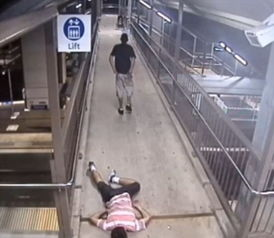fall: (77, 154, 150, 238)
